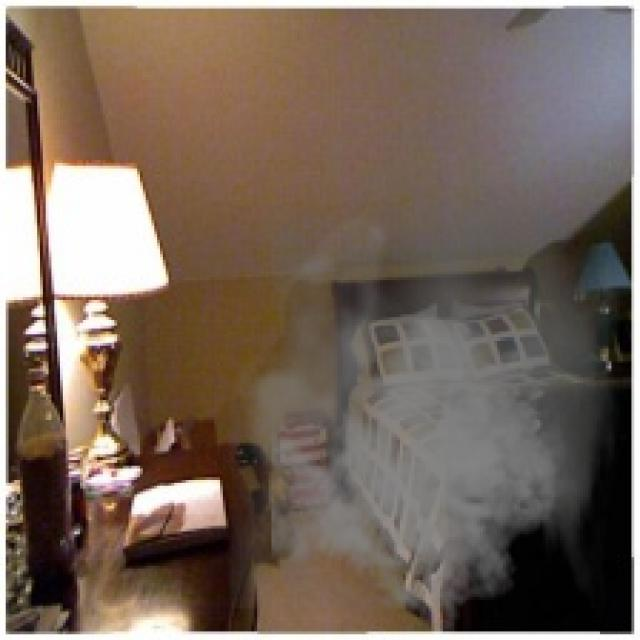smoke: (229, 206, 620, 623)
